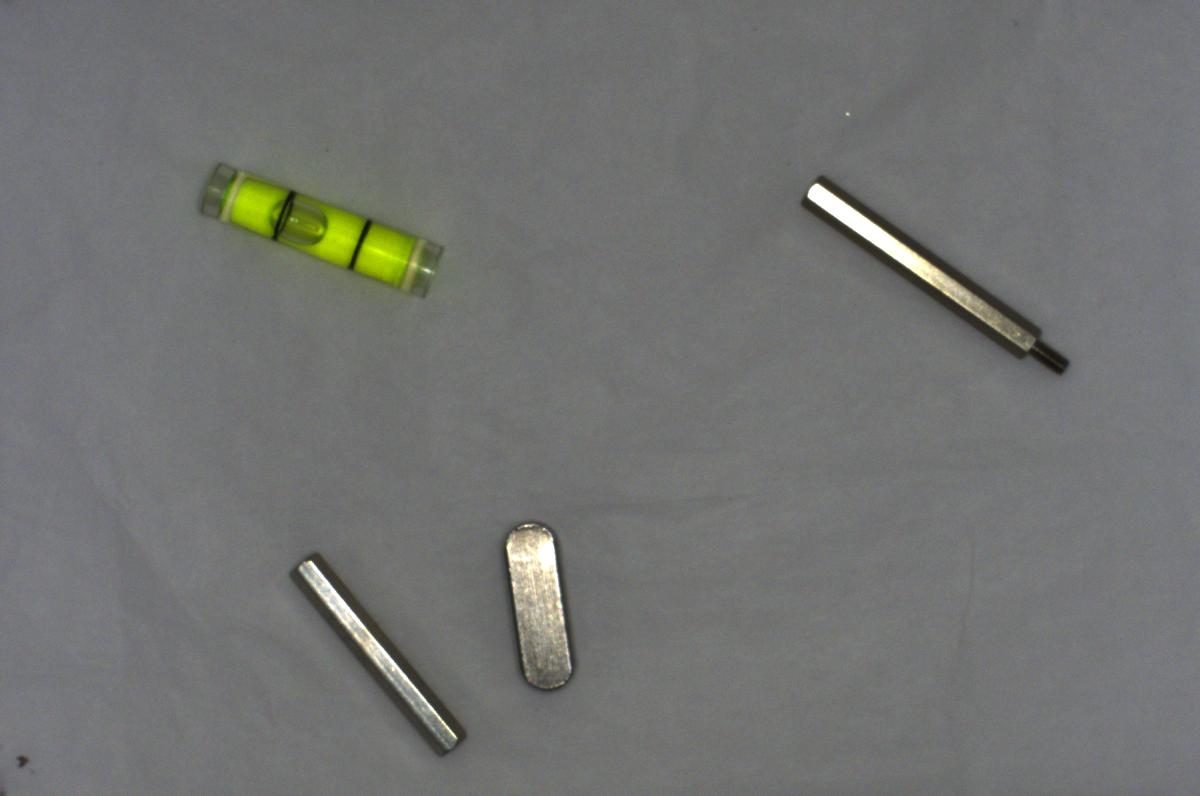Double hexagonal column: (277, 538, 468, 758)
Hexagonal steel column: (797, 167, 1080, 389)
Horizontal bubble: (194, 154, 439, 301)
Keybar: (497, 516, 574, 703)
